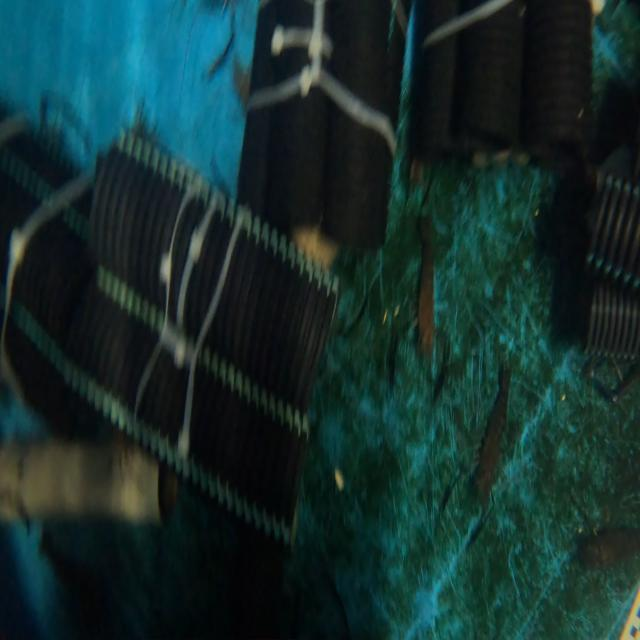prawn: (473, 366, 509, 507), (577, 528, 638, 569), (418, 217, 434, 357)
